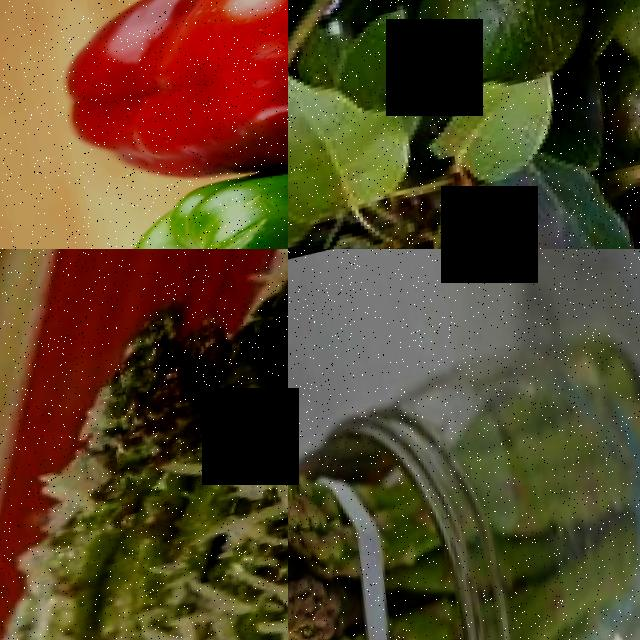asparagus: (288, 465, 353, 591)
avocado: (391, 0, 595, 124)
bell pepper: (68, 0, 288, 213), (117, 134, 288, 249)
